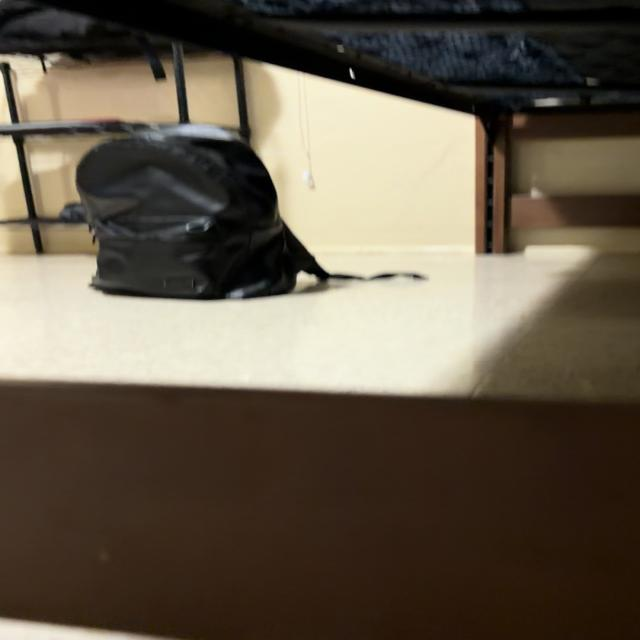backpack: (76, 124, 354, 298), (377, 274, 392, 277), (406, 274, 420, 277), (358, 278, 360, 279)
